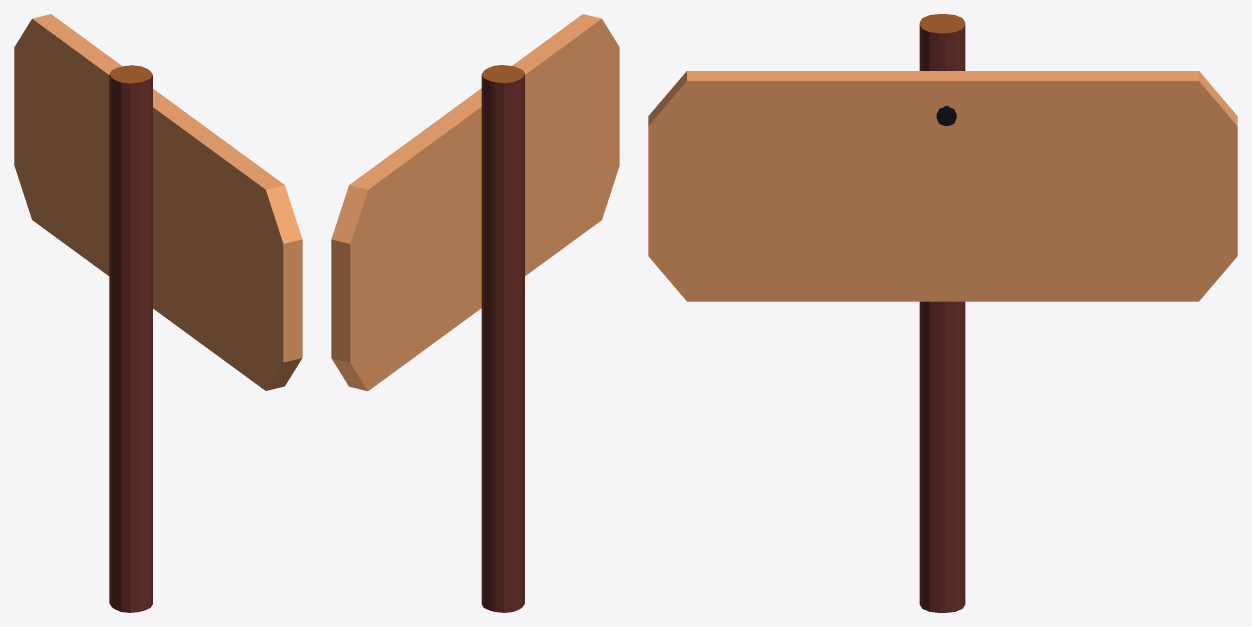
File: WoddenSign1.fbx
The picture shows the model from 3 angles, left to right: view 1: azimuth 30°, elevation 25°; view 2: azimuth 150°, elevation 25°; view 3: azimuth 270°, elevation 25°; orthographic projection. The views are drawn at different scales.
Visible parts, largest first — view 1: Cube.220; view 2: Cube.220; view 3: Cube.220.
Part boxes in pixels (<box>): Cube.220: <box>14,14,302,612</box>; Cube.220: <box>331,14,619,612</box>; Cube.220: <box>648,14,1237,612</box>.
Size of the model in its own units: 127 by 920 by 847.
